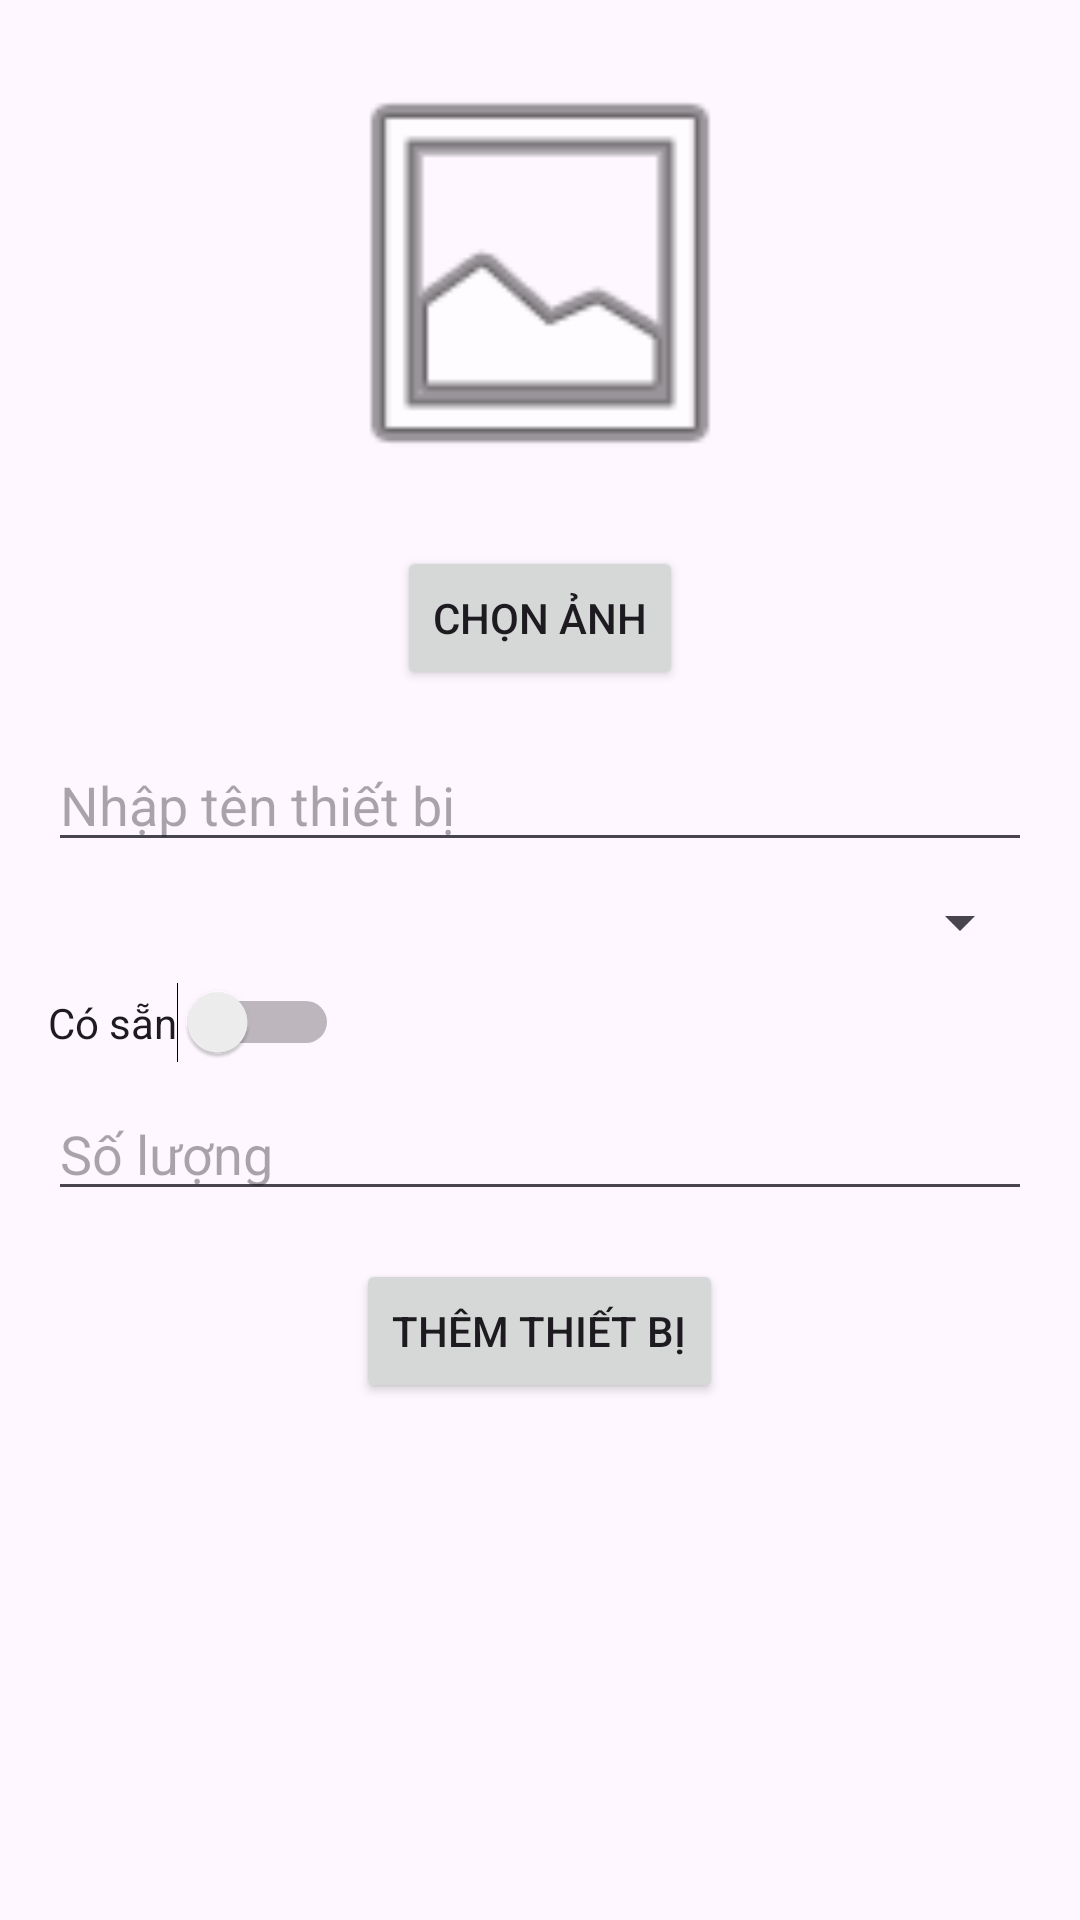

Where to tap for icons on this 1080*1920 app screen, as (x=x, y=y):
gallery: (x=540, y=273)
